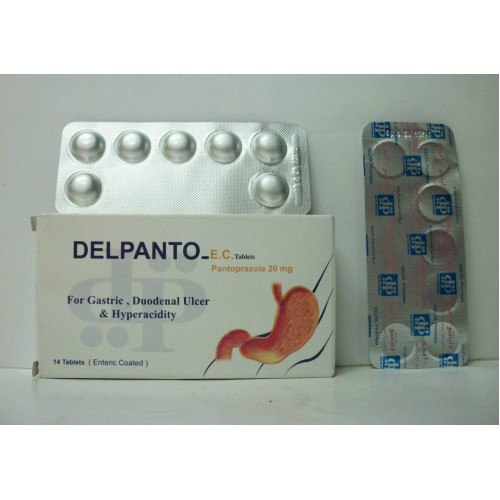Medicine: (31, 204, 347, 389), (360, 116, 474, 380)
